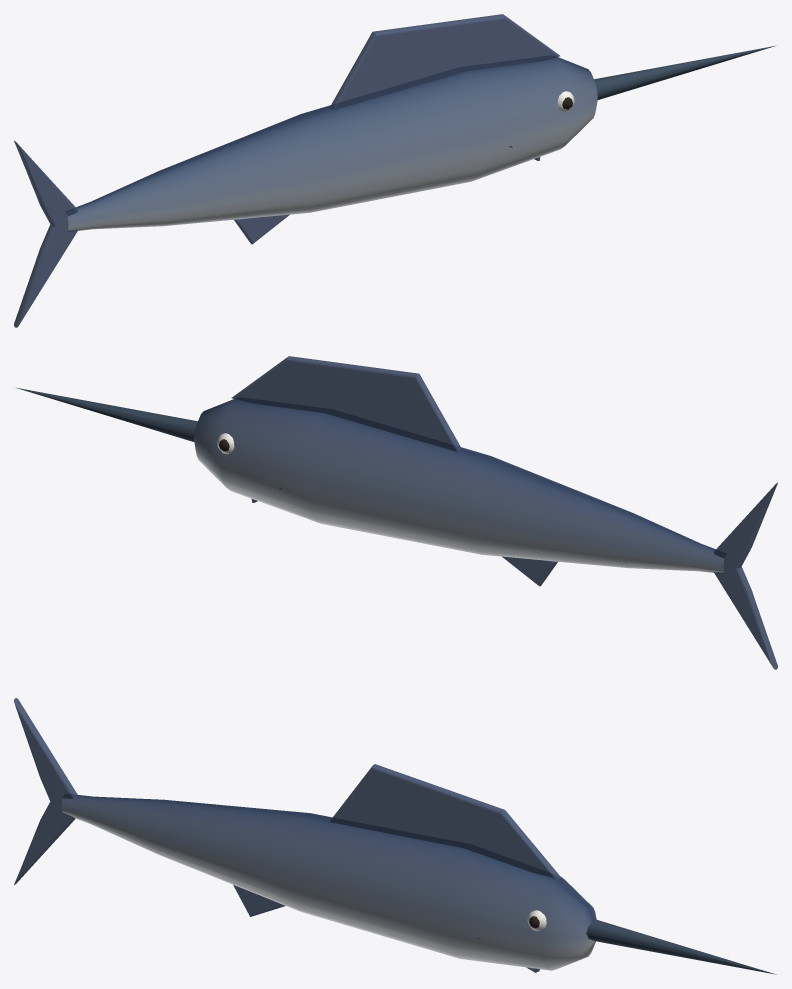
File: swordfish.glb
The picture shows the model from 3 angles, top to bottom: view 1: azimuth 30°, elevation 25°; view 2: azimuth 150°, elevation 25°; view 3: azimuth 330°, elevation 25°; orthographic projection.
Parts seen in each view (by area): view 1: fish; view 2: fish; view 3: fish.
Part boxes in pixels (x1,y1,x2,y2): fish: [14, 14, 775, 327]; fish: [16, 356, 777, 669]; fish: [14, 698, 776, 974].
Bounding box in the file's own units: 2.71 × 0.7056 × 0.228.
Materials: 5 (1 with a texture image).
